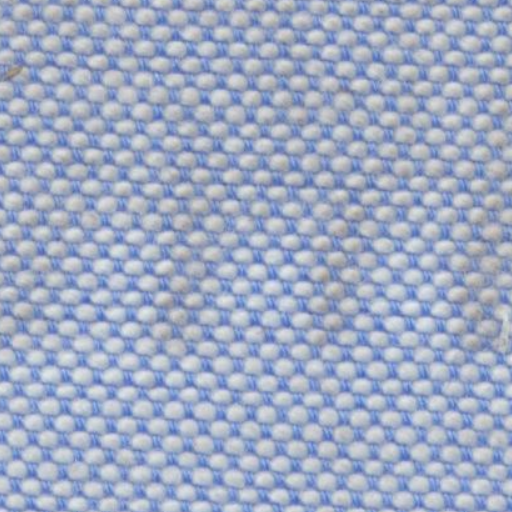WuZi: (6, 8, 502, 375)
